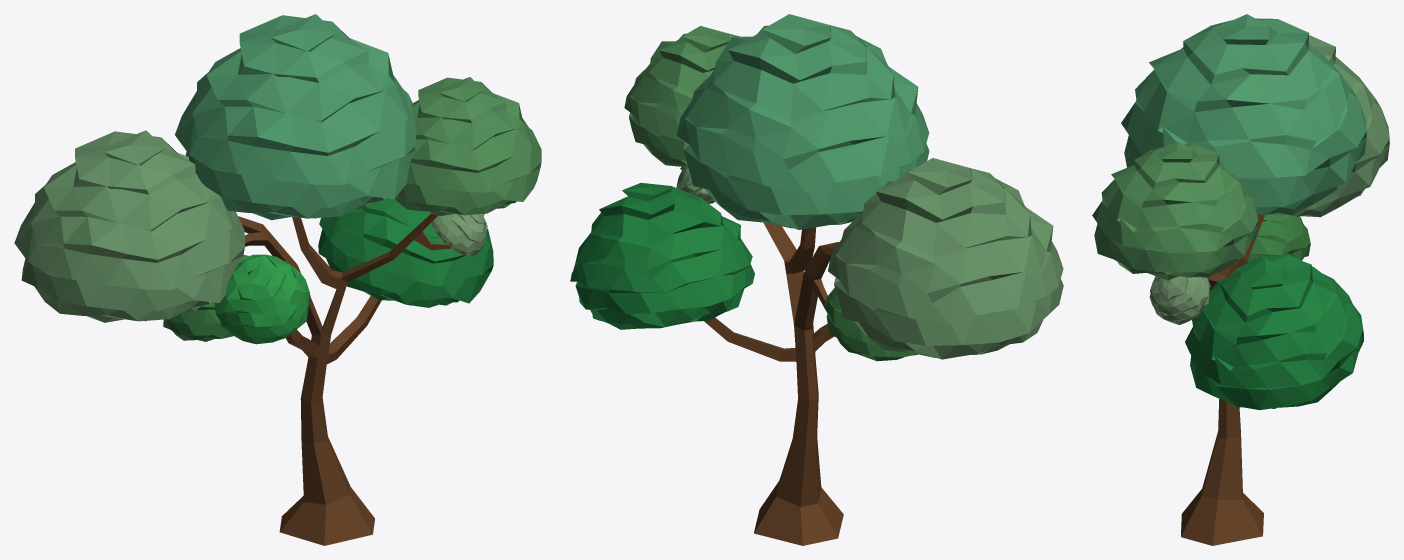
Rendered from Pohon.fbx.
3 renders of one model, left to right at view 1: azimuth 30°, elevation 25°; view 2: azimuth 150°, elevation 25°; view 3: azimuth 270°, elevation 25°, orthographic. The views are drawn at different scales.
Visible parts, largest first — view 1: Pohon2.010; view 2: Pohon2.010; view 3: Pohon2.010.
Boxes of the visible parts, x1,y1,x2,y2 form: Pohon2.010: [14, 14, 541, 545]; Pohon2.010: [570, 14, 1063, 545]; Pohon2.010: [1092, 14, 1389, 545].
Size of the model in its own units: 1192 by 1242 by 682.
